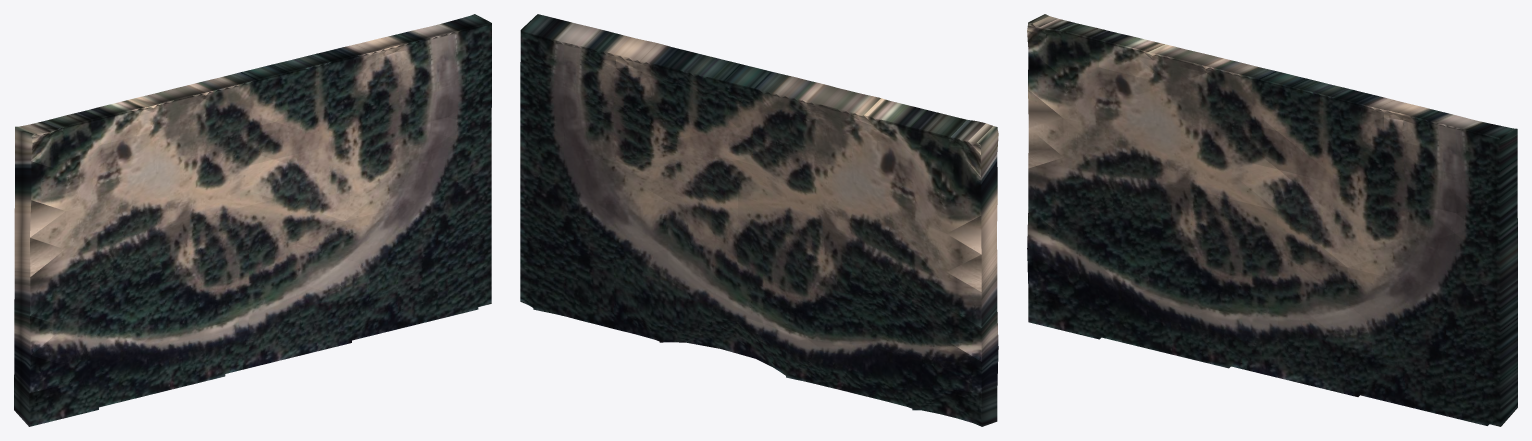
The model's file is map.obj.
3 views of the same model, side by side, from view 1: azimuth 30°, elevation 25°; view 2: azimuth 150°, elevation 25°; view 3: azimuth 330°, elevation 25° (orthographic). The views are drawn at different scales.
Parts seen in each view (by area): view 1: EXPORT_GOOGLE_SAT_WM; view 2: EXPORT_GOOGLE_SAT_WM; view 3: EXPORT_GOOGLE_SAT_WM.
Boxes of the visible parts, bbox=[...] form: EXPORT_GOOGLE_SAT_WM: bbox=[14, 14, 491, 426]; EXPORT_GOOGLE_SAT_WM: bbox=[520, 14, 998, 426]; EXPORT_GOOGLE_SAT_WM: bbox=[1027, 14, 1517, 426].
Bounding box in the file's own units: 337 × 205 × 22.62.
Materials: 1 (1 with a texture image).
